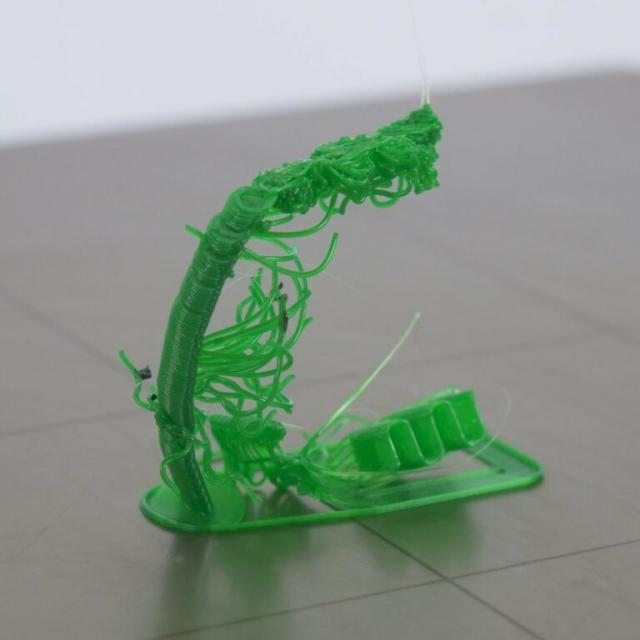Spaghetti: (196, 338, 292, 403)
